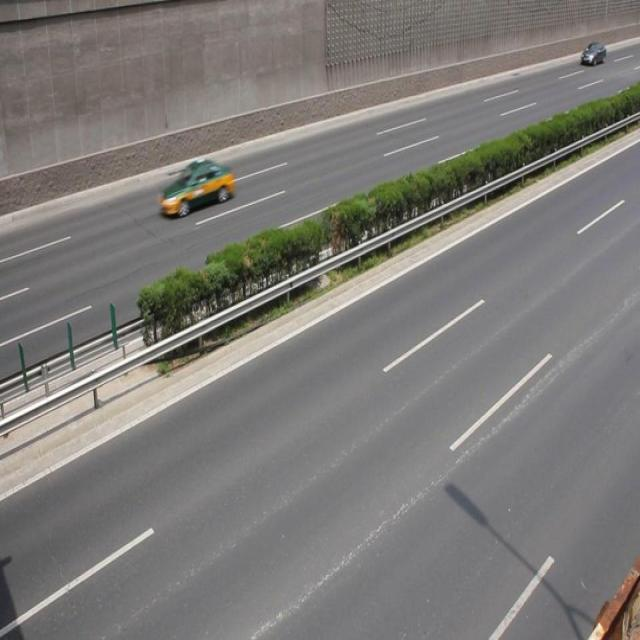car: (157, 159, 235, 218)
